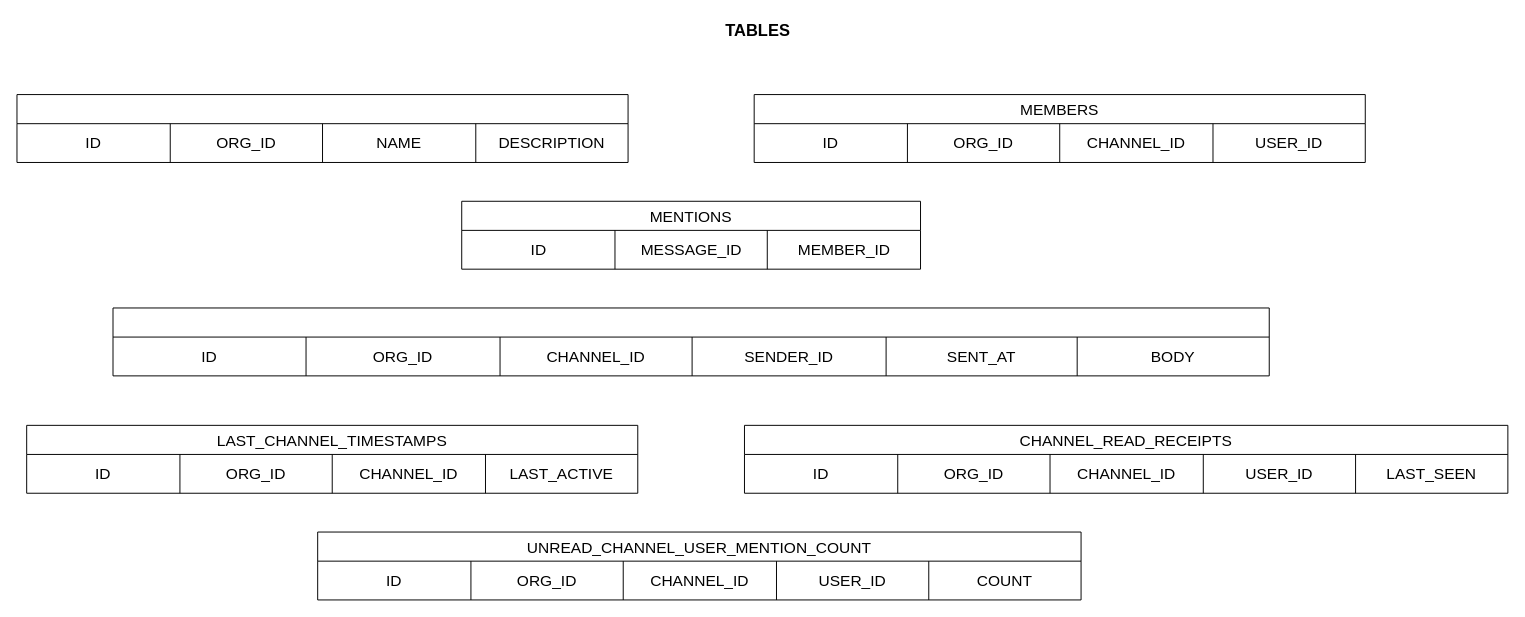
The diagram is 1525 pixels wide and 617 high, and some of its shapes have lost their labels. Here are the shapes that lost their labels. From the top down, the box of each, then its label:
(16, 94, 628, 162): CHANNELS
(112, 307, 1269, 376): MESSAGES
